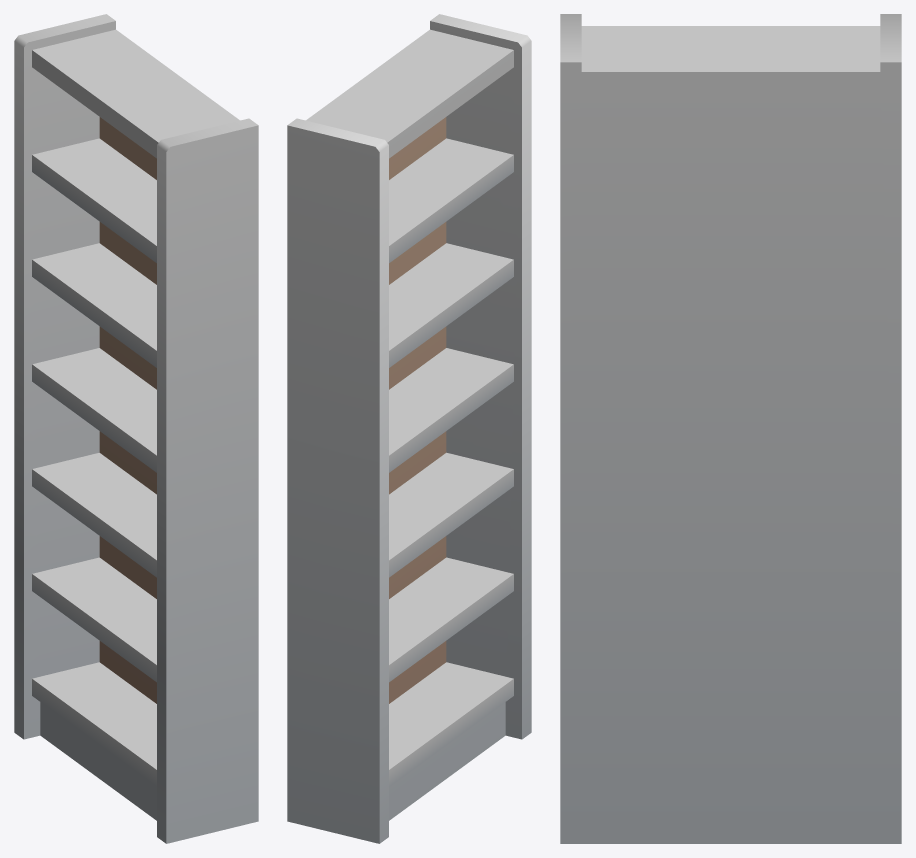
File: cabinet-bookcase.glb
3 renders of one model, left to right at view 1: azimuth 30°, elevation 25°; view 2: azimuth 150°, elevation 25°; view 3: azimuth 270°, elevation 25°, orthographic. The views are drawn at different scales.
Parts seen in each view (by area): view 1: cabinet-bookcase; view 2: cabinet-bookcase; view 3: cabinet-bookcase.
Part boxes in pixels (box(x1,y1,x2,y2)): cabinet-bookcase: box(14, 14, 258, 843); cabinet-bookcase: box(287, 14, 531, 843); cabinet-bookcase: box(560, 14, 901, 843).
Size of the model in its own units: 0.28 by 2.02 by 0.8.
